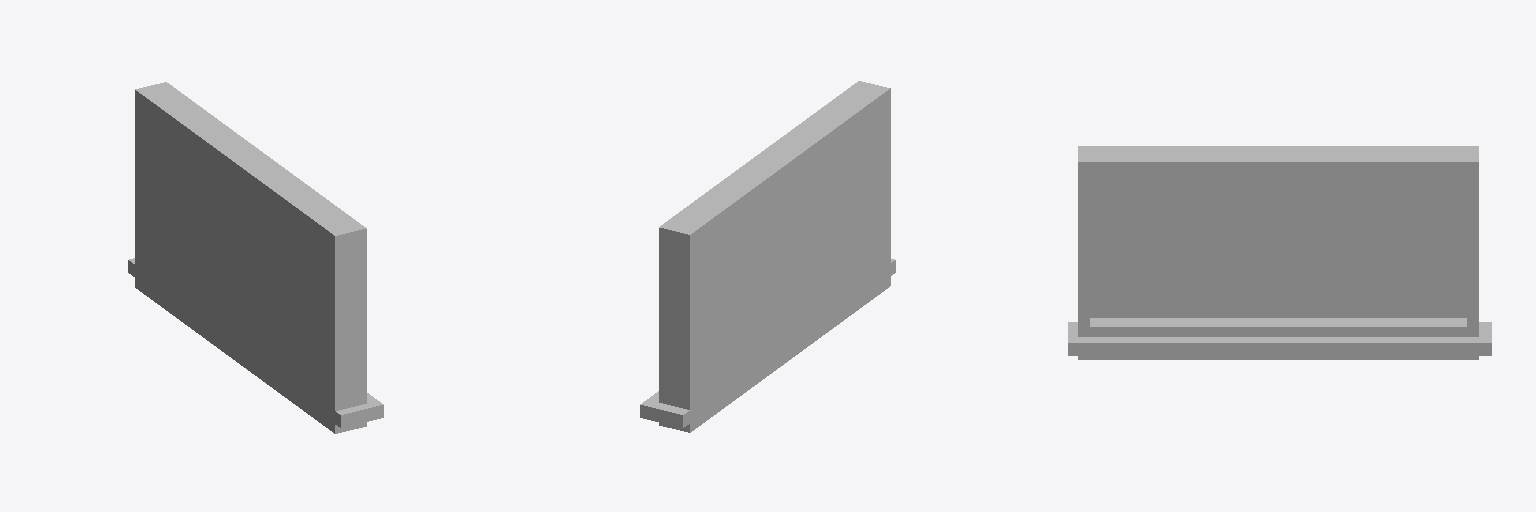
Rendered from ventana_cocina.obj.
3 renders of one model, left to right at view 1: azimuth 30°, elevation 25°; view 2: azimuth 150°, elevation 25°; view 3: azimuth 270°, elevation 25°, orthographic.
Visible parts, largest first — view 1: pCube1; view 2: pCube1; view 3: pCube1.
Boxes of the visible parts, box(x1,y1,x2,y2) form: pCube1: box(128, 82, 383, 433); pCube1: box(640, 81, 895, 432); pCube1: box(1068, 146, 1491, 359).
Bounding box in the file's own units: 0.1979 × 0.8667 × 1.69.